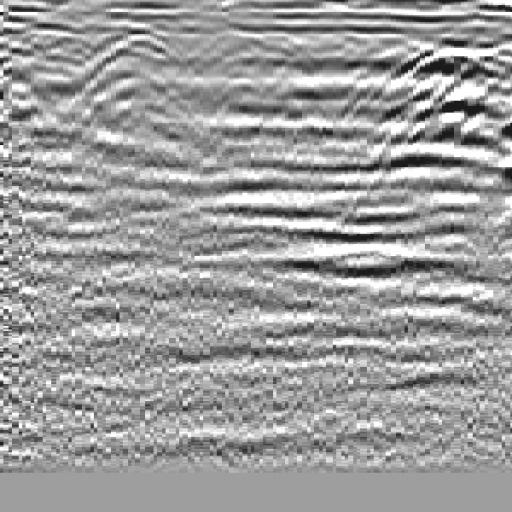metalic: (379, 34, 504, 137), (78, 16, 194, 112)
